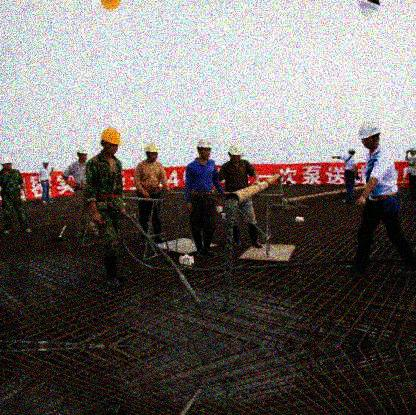helmet: (357, 122, 383, 149), (100, 128, 123, 156), (194, 138, 213, 160), (228, 143, 243, 163), (145, 141, 159, 162), (76, 145, 88, 162), (1, 156, 14, 171), (349, 145, 357, 155), (408, 146, 416, 156), (42, 159, 49, 168)
